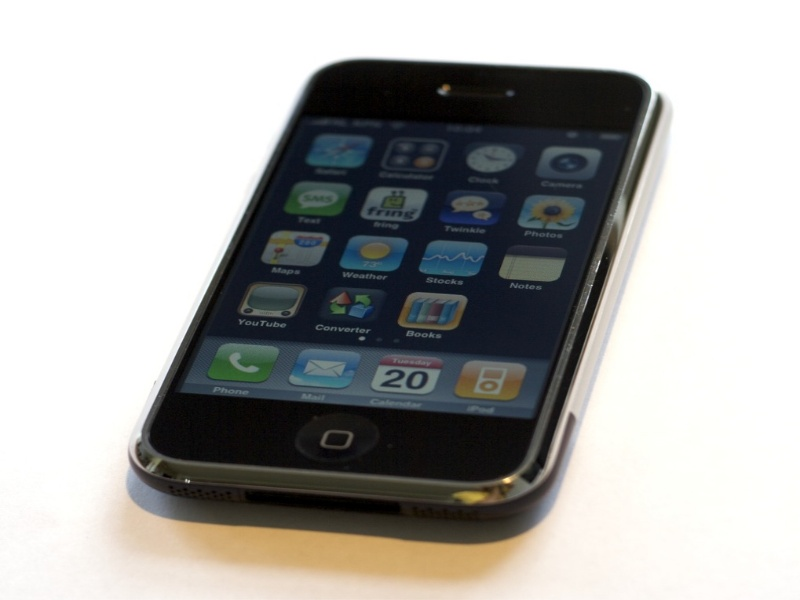cellphone: (110, 61, 682, 543)
